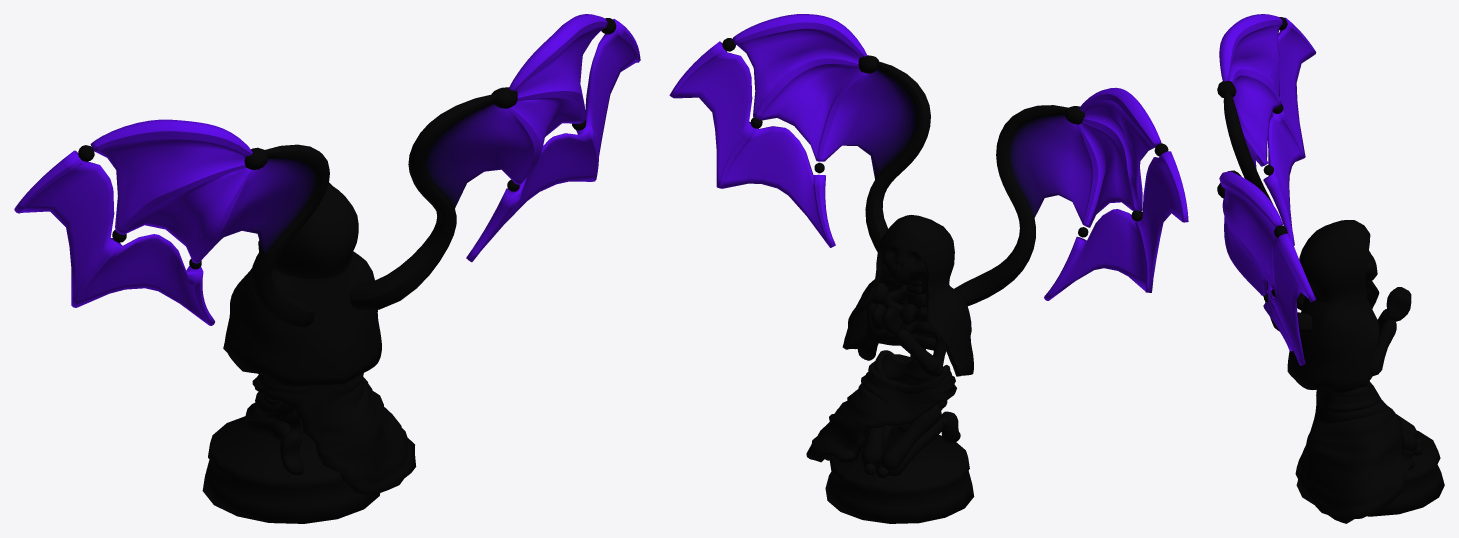
Rendered from INT_StatueOfLife.fbx.
3 renders of one model, left to right at view 1: azimuth 30°, elevation 25°; view 2: azimuth 150°, elevation 25°; view 3: azimuth 270°, elevation 25°, orthographic. The views are drawn at different scales.
Parts seen in each view (by area): view 1: m_StatueOfLife; view 2: m_StatueOfLife; view 3: m_StatueOfLife.
Boxes of the visible parts, x1,y1,x2,y2 form: m_StatueOfLife: (14, 14, 640, 523); m_StatueOfLife: (669, 14, 1188, 523); m_StatueOfLife: (1217, 14, 1444, 523).
Bounding box in the file's own units: 1320 × 948 × 508.
